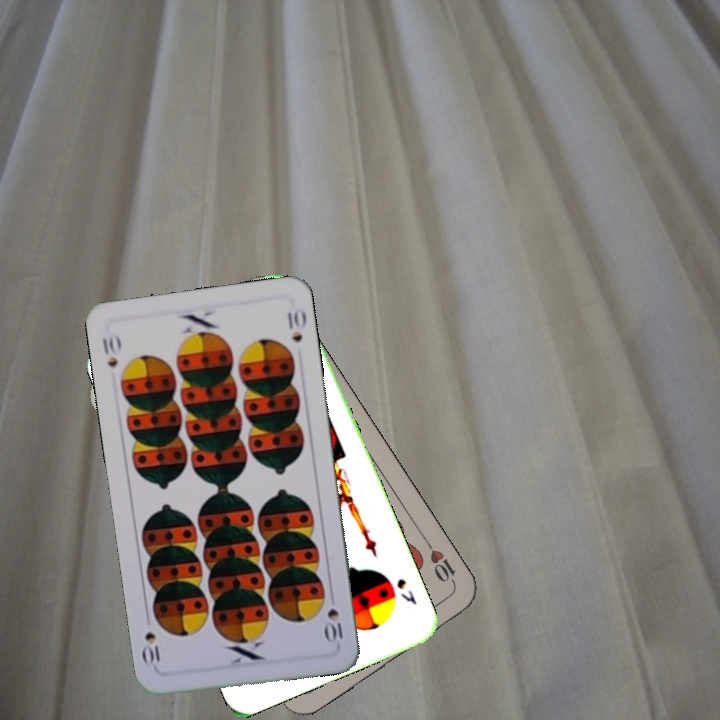H10: (422, 537, 460, 591)
S10: (322, 588, 345, 645), (98, 330, 123, 371)
SK: (392, 574, 419, 607)
